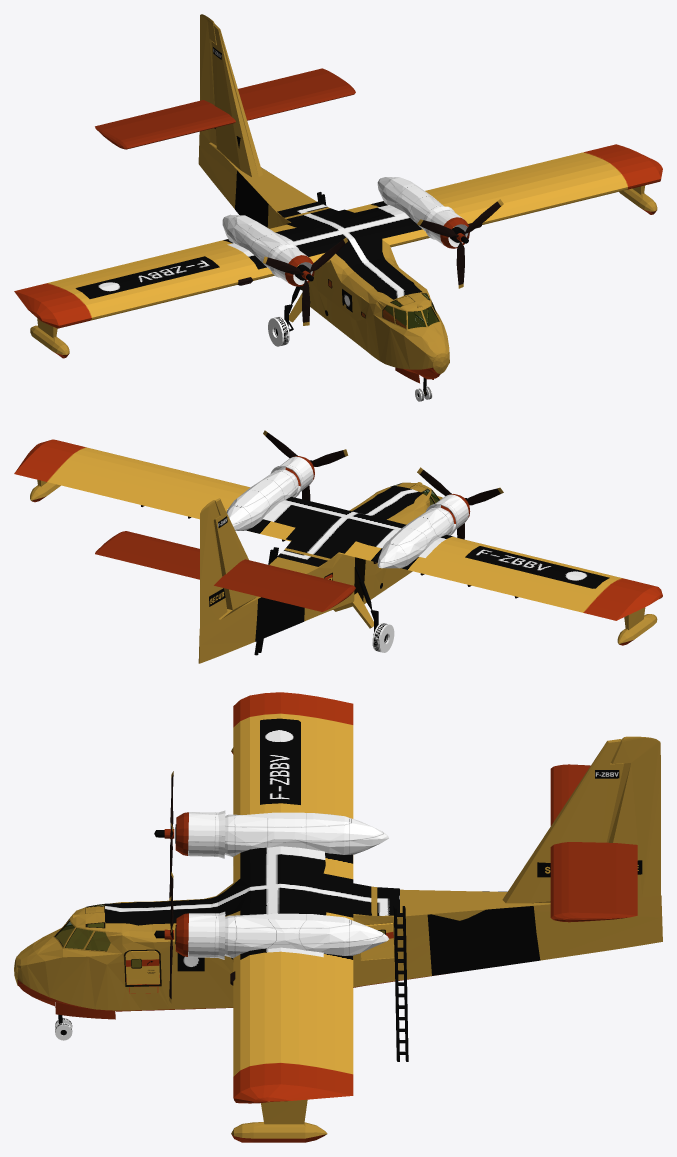
The picture shows the model from 3 angles, top to bottom: view 1: azimuth 30°, elevation 25°; view 2: azimuth 150°, elevation 25°; view 3: azimuth 270°, elevation 25°; orthographic projection. The views are drawn at different scales.
Visible parts, largest first — view 1: CANDALA; view 2: CANDALA; view 3: CANDALA.
Part boxes in pixels (x1=…): CANDALA: x1=14, y1=14, x2=662, y2=401; CANDALA: x1=14, y1=430, x2=662, y2=663; CANDALA: x1=14, y1=692, x2=662, y2=1142.
Bounding box in the file's own units: 2.6 × 0.8968 × 1.76.
